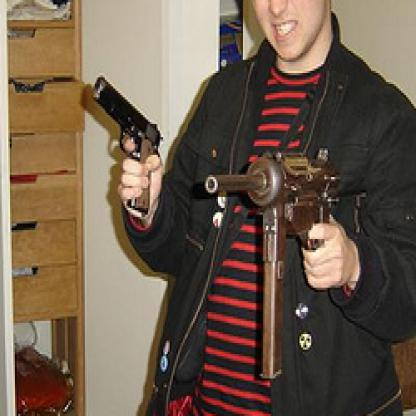gun: (196, 130, 350, 383), (83, 71, 166, 226)
